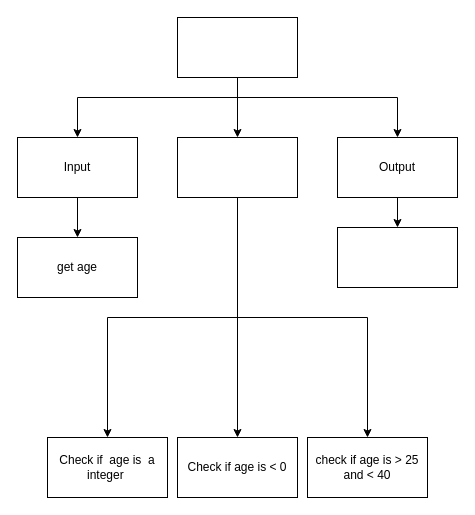
This 475x515 diagram has some shape labels left out. Each missing label, with the box of its shape:
Grandma's age approval: (176, 16, 298, 78)
Process: (176, 136, 298, 198)
Show if they are an acceptable age: (336, 226, 458, 288)
